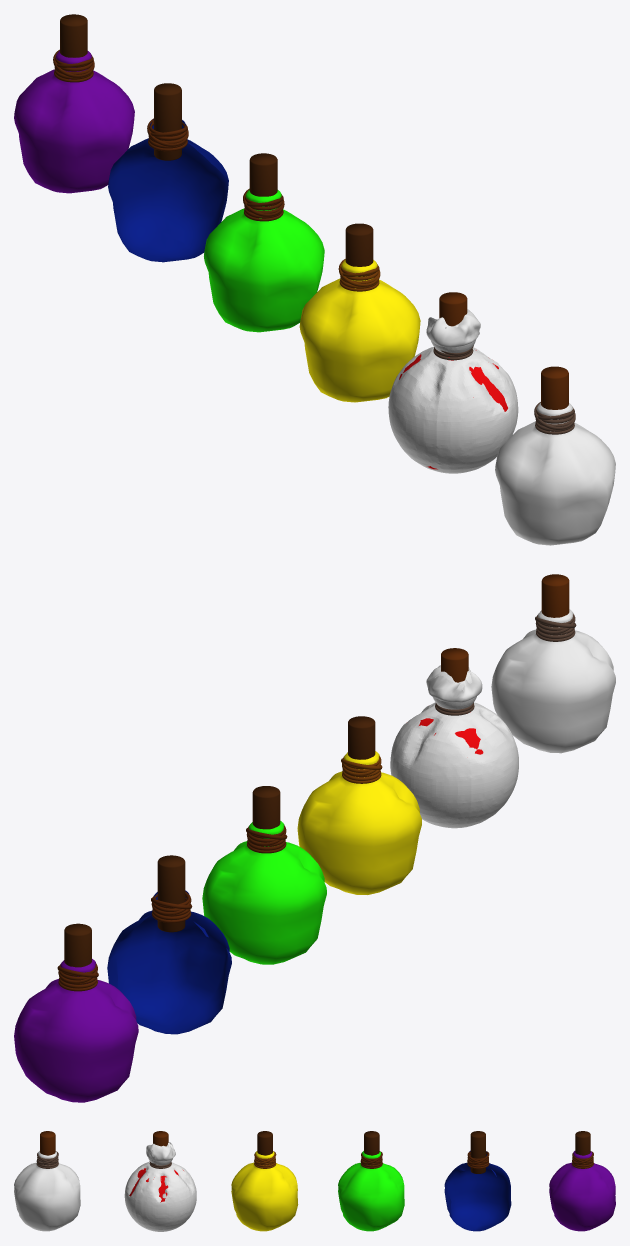
The model's file is Paints.fbx.
The picture shows the model from 3 angles, top to bottom: view 1: azimuth 30°, elevation 25°; view 2: azimuth 150°, elevation 25°; view 3: azimuth 270°, elevation 25°; orthographic projection. The views are drawn at different scales.
Parts seen in each view (by area): view 1: Sphere, Plane.006, Plane.003, Plane.005, Plane.002, Plane.004, Cylinder.003, Plane.001, Cylinder.001, Cylinder.002, Cylinder.004, Cylinder.005 (+6 smaller); view 2: Plane.005, Plane.006, Plane.002, Plane.003, Sphere, Plane.004, Cylinder.003, Plane.001, Cylinder.005, Cylinder.002, Cylinder.004, Cylinder.001 (+6 smaller); view 3: Plane.005, Plane.006, Plane.003, Plane.002, Sphere, Plane.004, Cylinder.003, Plane.001, Cylinder.004, Cylinder.001, Cylinder.002, Cylinder.005 (+7 smaller).
Part boxes in pixels (x1,y1,x2,y2): Sphere: (388,347,518,473); Plane.006: (495,402,615,545); Plane.003: (204,189,324,332); Plane.005: (14,50,134,193); Plane.002: (299,259,420,402); Plane.004: (108,119,228,262); Cylinder.003: (154,83,181,160); Plane.001: (426,309,480,347); Cylinder.001: (345,223,373,266); Cylinder.002: (249,153,277,196); Cylinder.004: (60,14,87,57); Cylinder.005: (541,366,568,409); Plane.005: (14,959,138,1102); Plane.006: (491,609,615,753); Plane.002: (297,751,421,894); Plane.003: (202,821,326,964); Sphere: (390,702,518,828); Plane.004: (107,890,231,1034); Cylinder.003: (157,855,185,932); Plane.001: (426,665,482,702); Cylinder.005: (541,574,569,617); Cylinder.002: (252,786,280,829); Cylinder.004: (64,923,91,967); Cylinder.001: (348,716,375,759); Plane.005: (549,1151,615,1231); Plane.006: (14,1151,80,1231); Plane.003: (338,1151,404,1231); Plane.002: (231,1151,298,1231); Sphere: (124,1162,196,1231); Plane.004: (444,1150,511,1231); Cylinder.003: (470,1131,485,1173); Plane.001: (146,1143,175,1161); Cylinder.004: (575,1131,590,1155); Cylinder.001: (257,1131,272,1155); Cylinder.002: (364,1131,379,1155); Cylinder.005: (40,1131,55,1155).
Size of the model in its own units: 538 by 778 by 4494.
